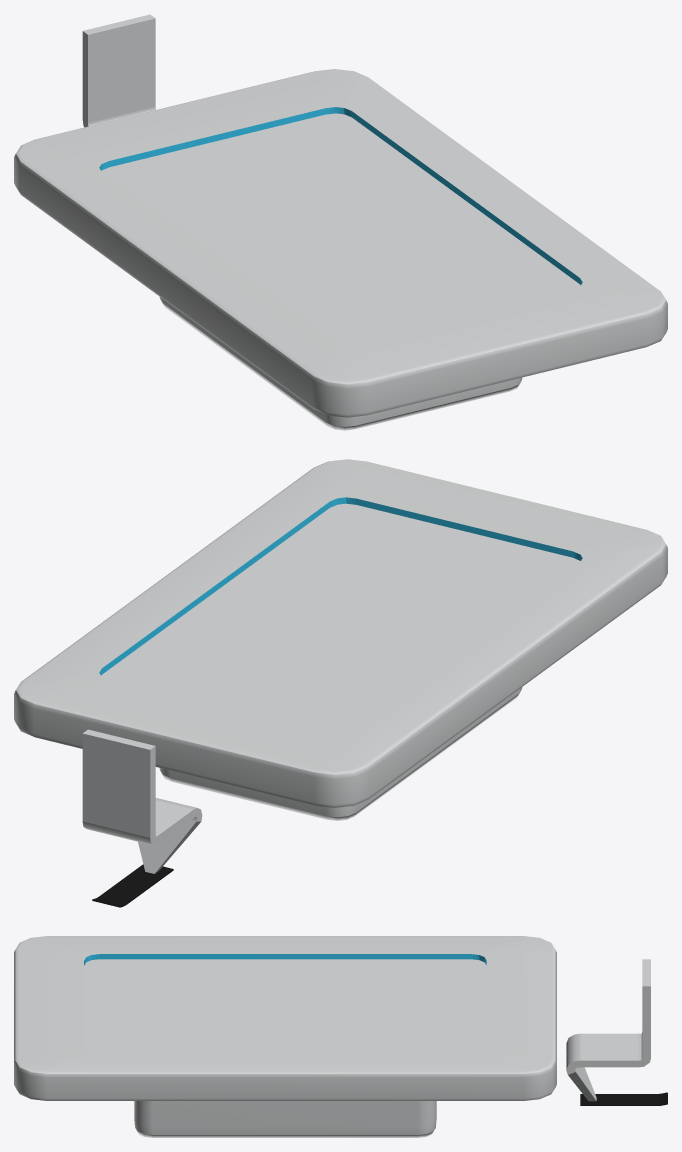
File: meeting.fbx
The picture shows the model from 3 angles, top to bottom: view 1: azimuth 30°, elevation 25°; view 2: azimuth 150°, elevation 25°; view 3: azimuth 270°, elevation 25°; orthographic projection. The views are drawn at different scales.
Parts seen in each view (by area): view 1: pCube1, pCube11, pCube2; view 2: pCube1, pCube11, pCube2; view 3: pCube1, pCube2, pCube11.
Boxes of the visible parts, <box> form: pCube1: <box>14,69,667,417</box>; pCube11: <box>82,14,155,127</box>; pCube2: <box>159,297,522,430</box>; pCube1: <box>14,459,667,807</box>; pCube11: <box>82,729,202,907</box>; pCube2: <box>159,687,522,820</box>; pCube1: <box>14,936,556,1100</box>; pCube2: <box>134,1101,436,1137</box>; pCube11: <box>566,959,667,1105</box>.
Size of the model in its own units: 10.08 by 4.32 by 20.01.
